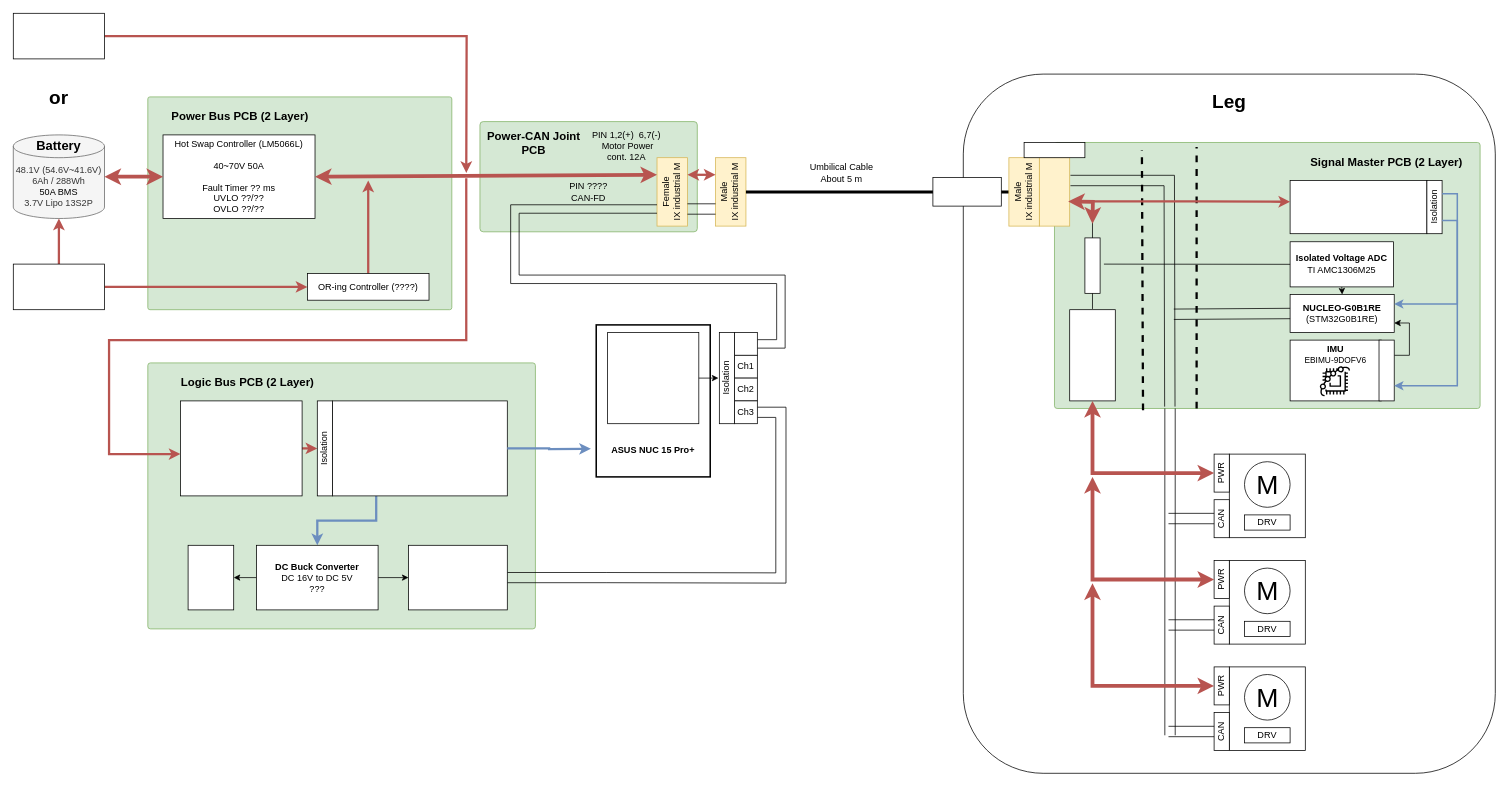
Some shapes in this 1509 by 787 pixel diagram are drawn without their labels. The centre of each missing label's shape, as x and y in pixels:
"Battery Charger 54.6V 2A" goes at (58,286).
"Capacitor Bank" goes at (1092,355).
"Ch0" goes at (745,343).
"DC Power Supply (PSU)" goes at (58,36).
"DC Regulator 400W DC 36V - 75V to DC 48V PRM48AF480T400A00" goes at (241,448).
"Isoloated Current Multiplyer 240W k=1/3 (DC 48V to DC1 6V) VTM48EF160T015A00" goes at (419,448).
"Isoloated DC Regulator 10 0W DC 36V - 75V to DC 5V ULS-5/20-D48N-C" goes at (1358,207).
"IX industrial Female" goes at (1054,191).
"Kvaser M.2 PCIe 4xCAN" goes at (653,378).
"LDO DC 5V to DC 3.3V" goes at (210,577).
"NUCLEO-H723ZG (STM32H723ZG)" goes at (457,577).
"Reinforced" goes at (1054,150).
"Shunt ??mΩ" goes at (1092,265).
"Strain Relief" goes at (966,191).
"UART" goes at (1386,370).
